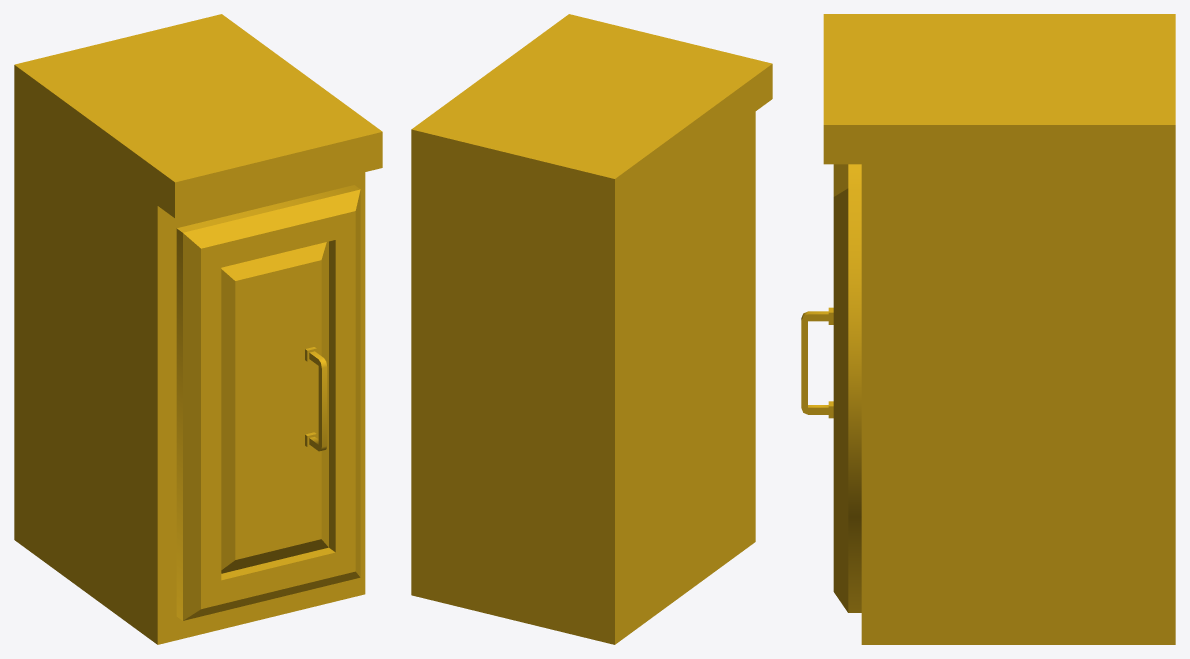
File: CTS_E_CabinetD.fbx
3 views of the same model, side by side, from view 1: azimuth 30°, elevation 25°; view 2: azimuth 150°, elevation 25°; view 3: azimuth 270°, elevation 25° (orthographic). The views are drawn at different scales.
Parts seen in each view (by area): view 1: CTS_E_CabinetD; view 2: CTS_E_CabinetD; view 3: CTS_E_CabinetD.
Part boxes in pixels (x1=…): CTS_E_CabinetD: x1=14, y1=14, x2=382, y2=644; CTS_E_CabinetD: x1=411, y1=14, x2=772, y2=644; CTS_E_CabinetD: x1=801, y1=14, x2=1175, y2=644.
Size of the model in its own units: 49.07 by 107 by 70.04.
